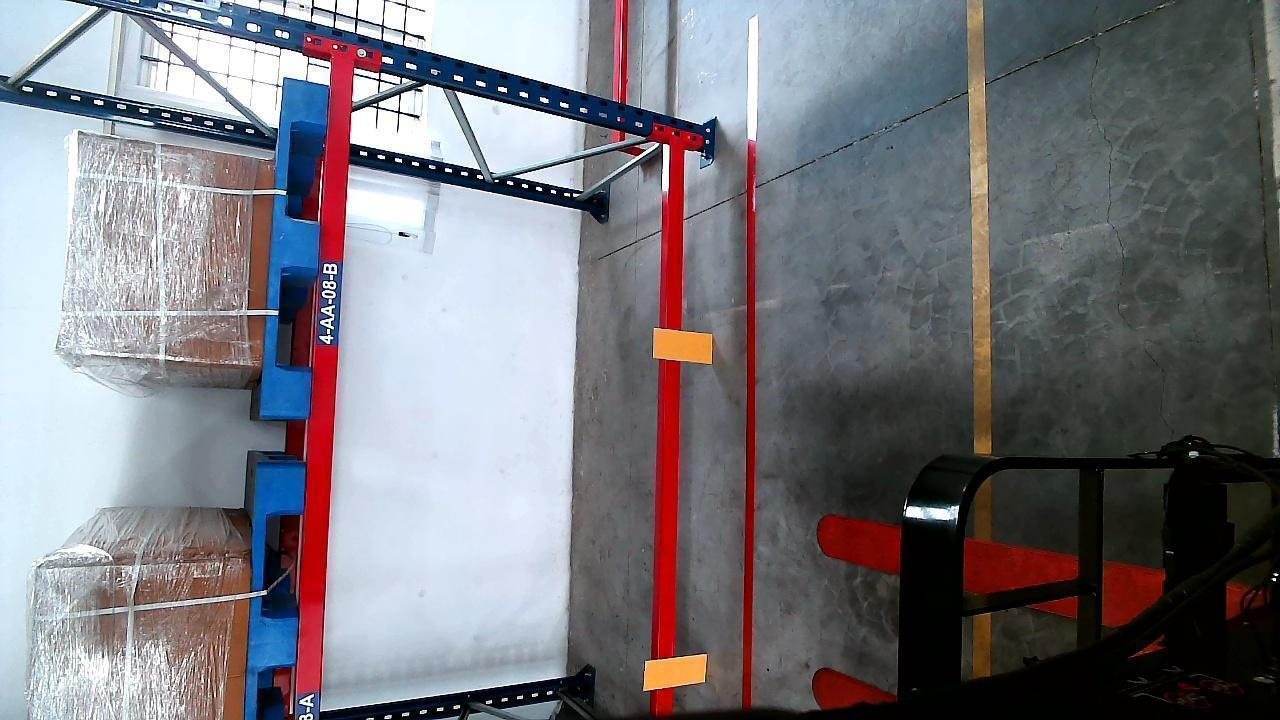red_line: (743, 15, 760, 709)
yellow_line: (969, 1, 991, 677)
